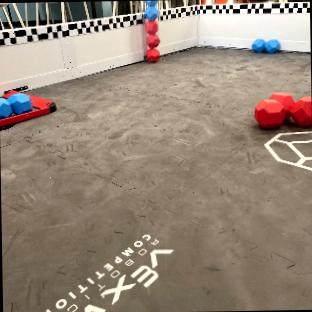Parking-R: (0, 88, 55, 127)
V5_BLUE: (252, 39, 279, 52), (145, 2, 157, 20)
V5_RED: (254, 92, 311, 128), (145, 20, 158, 47), (146, 47, 159, 61)
